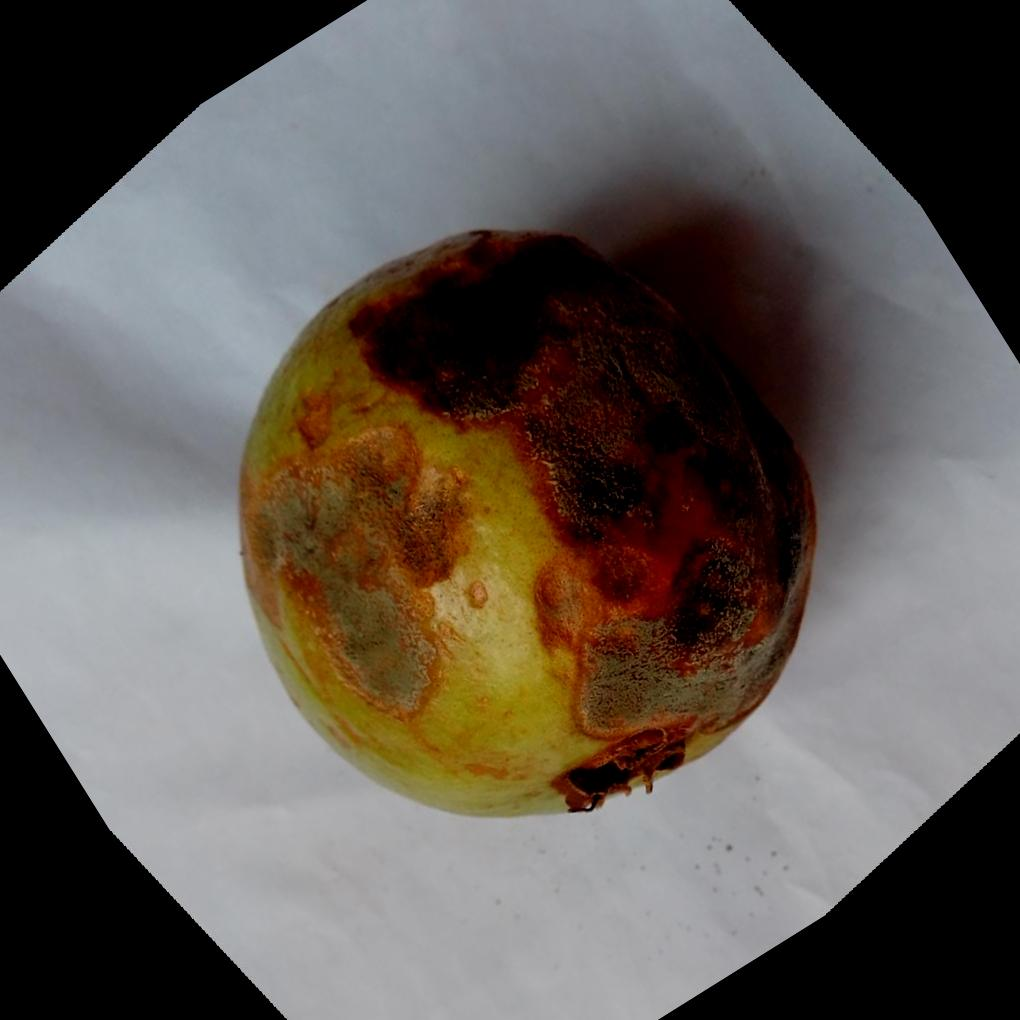FreshOrange: (233, 223, 817, 817)
